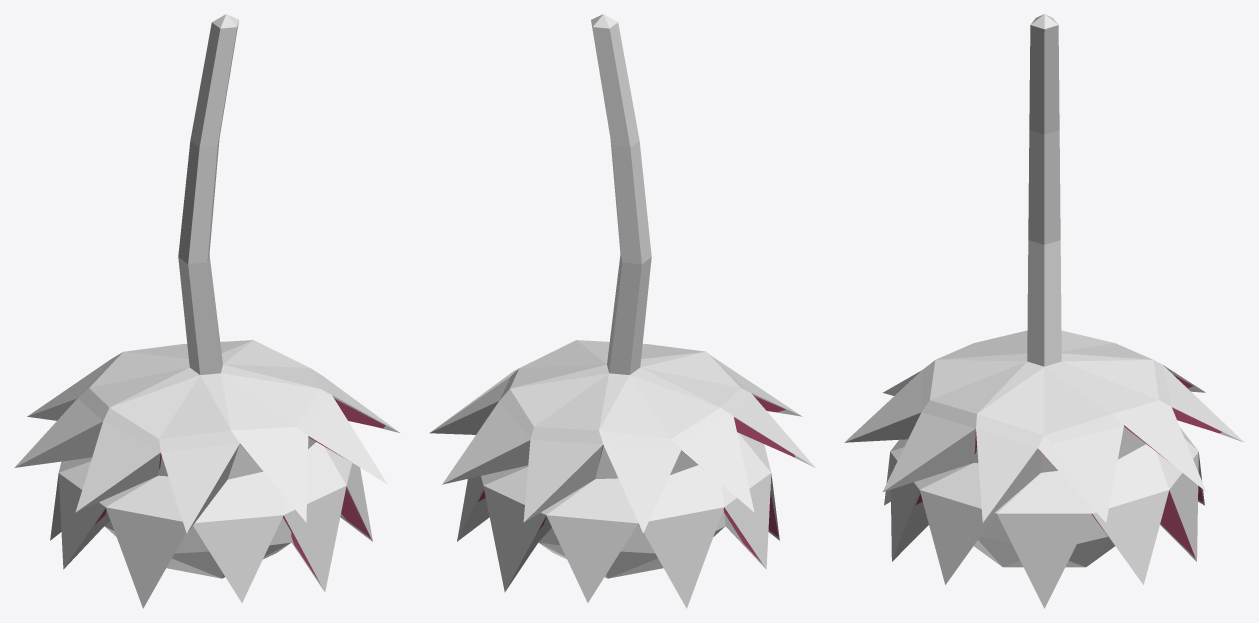
Rendered from resource__surrounding__drop__balls-2.fbx.
3 views of the same model, side by side, from view 1: azimuth 30°, elevation 25°; view 2: azimuth 150°, elevation 25°; view 3: azimuth 270°, elevation 25° (orthographic).
Parts seen in each view (by area): view 1: Map_Surrounding_Drop_Balls2; view 2: Map_Surrounding_Drop_Balls2; view 3: Map_Surrounding_Drop_Balls2.
Part boxes in pixels (box(x1,y1,x2,y2)): Map_Surrounding_Drop_Balls2: box(14, 14, 399, 608); Map_Surrounding_Drop_Balls2: box(429, 14, 815, 608); Map_Surrounding_Drop_Balls2: box(844, 14, 1244, 608).
Size of the model in its own units: 283 by 455 by 297.
